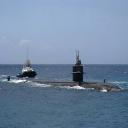submarine: (8, 67, 125, 91)
